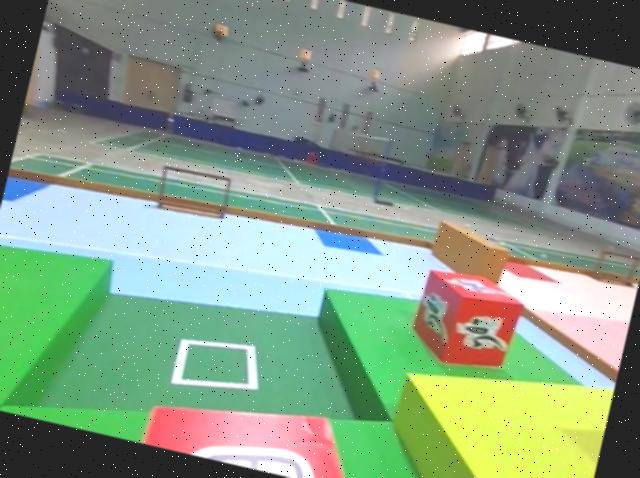R1: (405, 262, 525, 376)
R2 Fake: (141, 376, 377, 478)
